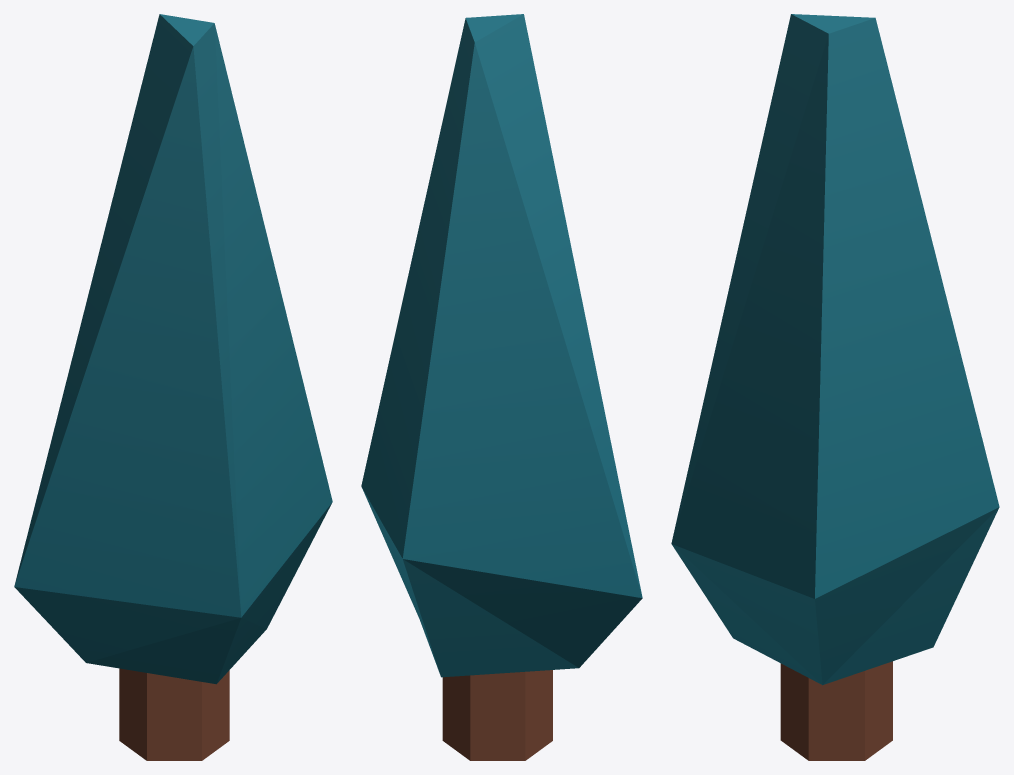
Rendered from Bush_10_gradient_blue_vc.fbx.
The picture shows the model from 3 angles, left to right: view 1: azimuth 30°, elevation 25°; view 2: azimuth 150°, elevation 25°; view 3: azimuth 270°, elevation 25°; orthographic projection.
Parts seen in each view (by area): view 1: Bush_10_gradient_blue_vc; view 2: Bush_10_gradient_blue_vc; view 3: Bush_10_gradient_blue_vc.
Part boxes in pixels (left/top/right/bottom): Bush_10_gradient_blue_vc: left=14, top=14, right=332, bottom=760; Bush_10_gradient_blue_vc: left=361, top=14, right=642, bottom=760; Bush_10_gradient_blue_vc: left=671, top=14, right=999, bottom=760.
Bounding box in the file's own units: 38.13 × 86.43 × 35.48.
